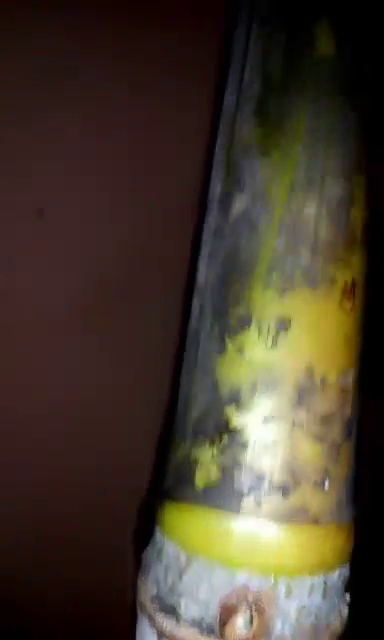cane eye: (215, 586, 267, 640)
